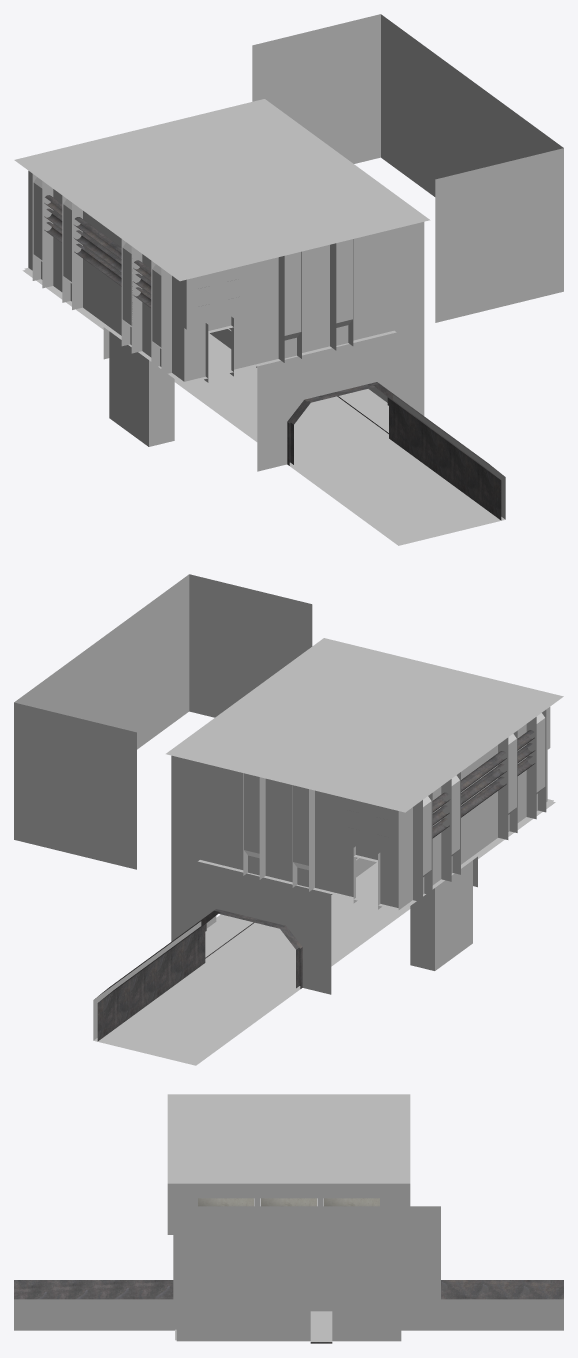
File: Room2_Outside_HCZ.fbx
3 views of the same model, one above another, from view 1: azimuth 30°, elevation 25°; view 2: azimuth 150°, elevation 25°; view 3: azimuth 270°, elevation 25° (orthographic). The views are drawn at different scales.
Parts seen in each view (by area): view 1: Room2_Outside_HCZ; view 2: Room2_Outside_HCZ; view 3: Room2_Outside_HCZ.
Part boxes in pixels (<box>): Room2_Outside_HCZ: <box>14,14,563,545</box>; Room2_Outside_HCZ: <box>14,574,563,1065</box>; Room2_Outside_HCZ: <box>14,1094,563,1343</box>.
Size of the model in its own units: 28.96 by 18.24 by 48.64.
